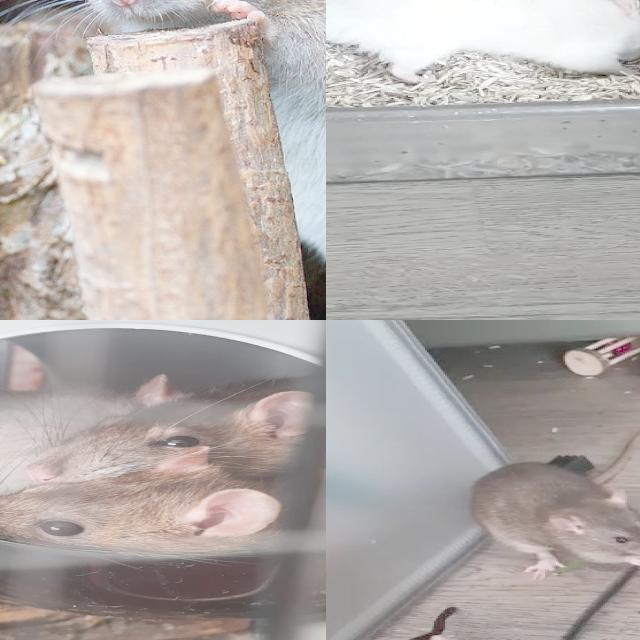rat: (80, 0, 326, 270), (0, 373, 326, 554), (326, 0, 640, 78), (464, 462, 640, 579)
